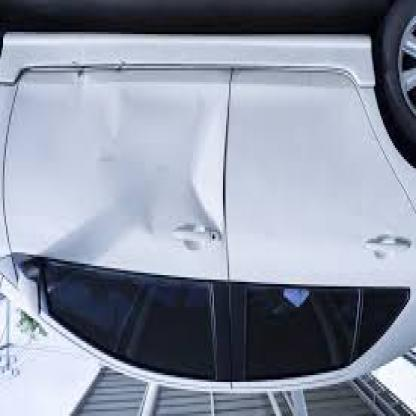dent: (178, 164, 214, 223), (64, 51, 124, 83)
